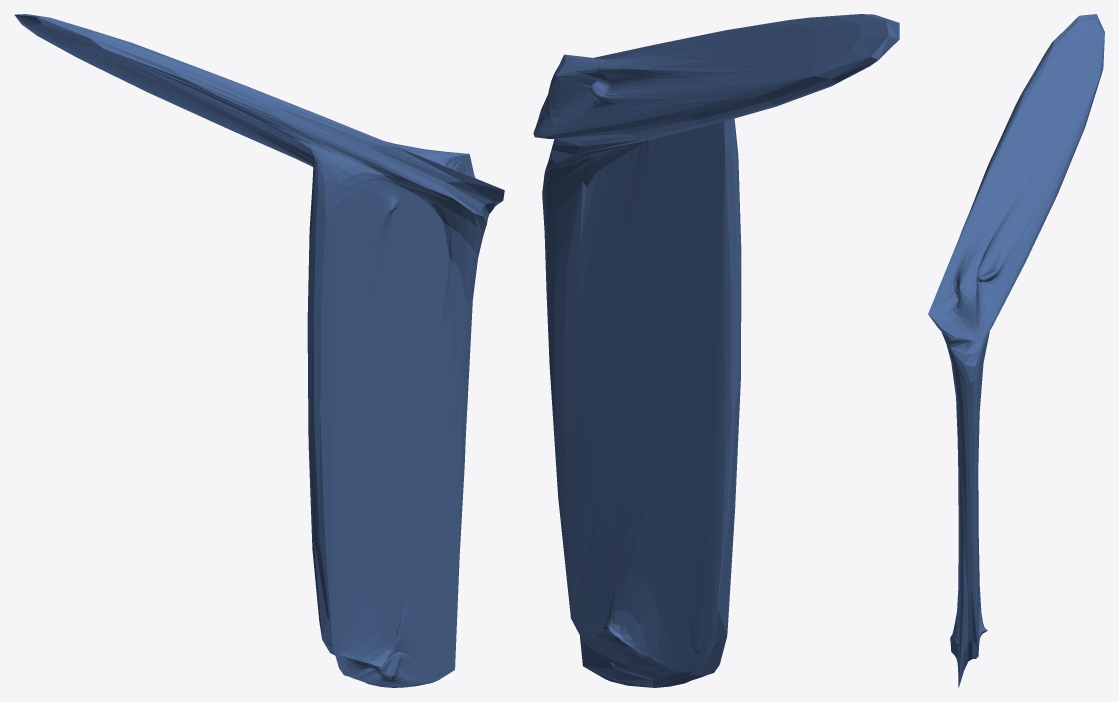
3 renders of one model, left to right at view 1: azimuth 30°, elevation 25°; view 2: azimuth 150°, elevation 25°; view 3: azimuth 270°, elevation 25°, orthographic. The views are drawn at different scales.
Visible parts, largest first — view 1: 079_Cube.326; view 2: 079_Cube.326; view 3: 079_Cube.326.
Boxes of the visible parts, left/top/right/bottom form: 079_Cube.326: left=14, top=14, right=504, bottom=687; 079_Cube.326: left=533, top=14, right=899, bottom=687; 079_Cube.326: left=928, top=14, right=1104, bottom=687.
Bounding box in the file's own units: 9.16 × 15.42 × 4.53.
